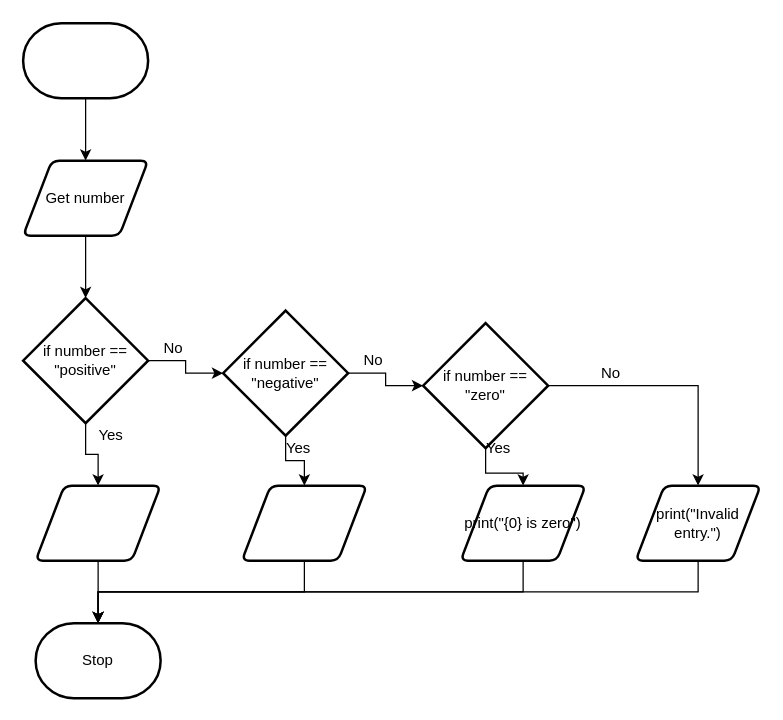
Image size: 783x720. Some labels were removed from this diagram. The centre of each missing label's shape, as x and y in pixels:
print("{0} is negative"): the point at 304,522
print("{0} is positive"): the point at 97,522
Start: the point at 85,60
